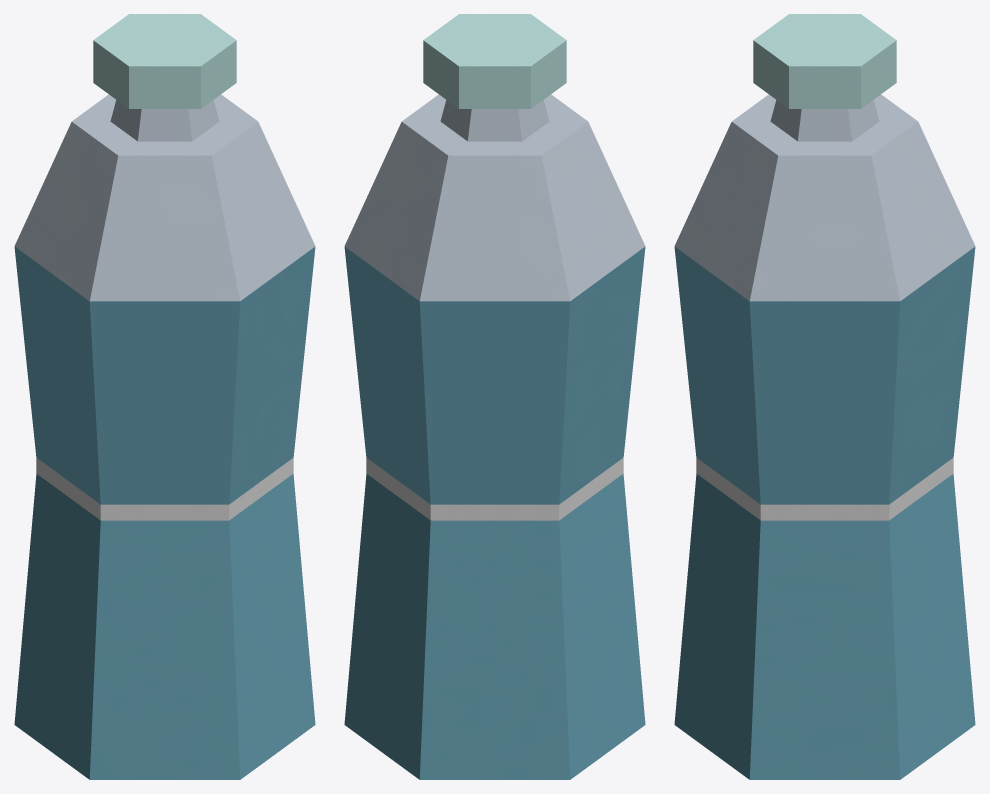
Rendered from Bottle_02.fbx.
3 renders of one model, left to right at view 1: azimuth 30°, elevation 25°; view 2: azimuth 150°, elevation 25°; view 3: azimuth 270°, elevation 25°, orthographic.
Visible parts, largest first — view 1: Bottle_02; view 2: Bottle_02; view 3: Bottle_02.
Boxes of the visible parts, <box> form: Bottle_02: <box>14,14,315,779</box>; Bottle_02: <box>344,14,645,779</box>; Bottle_02: <box>674,14,975,779</box>.
Size of the model in its own units: 0.091 by 0.2636 by 0.105.
